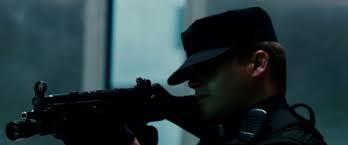rifle: (5, 76, 200, 145)
